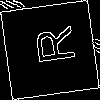R: (25, 24, 76, 67)
